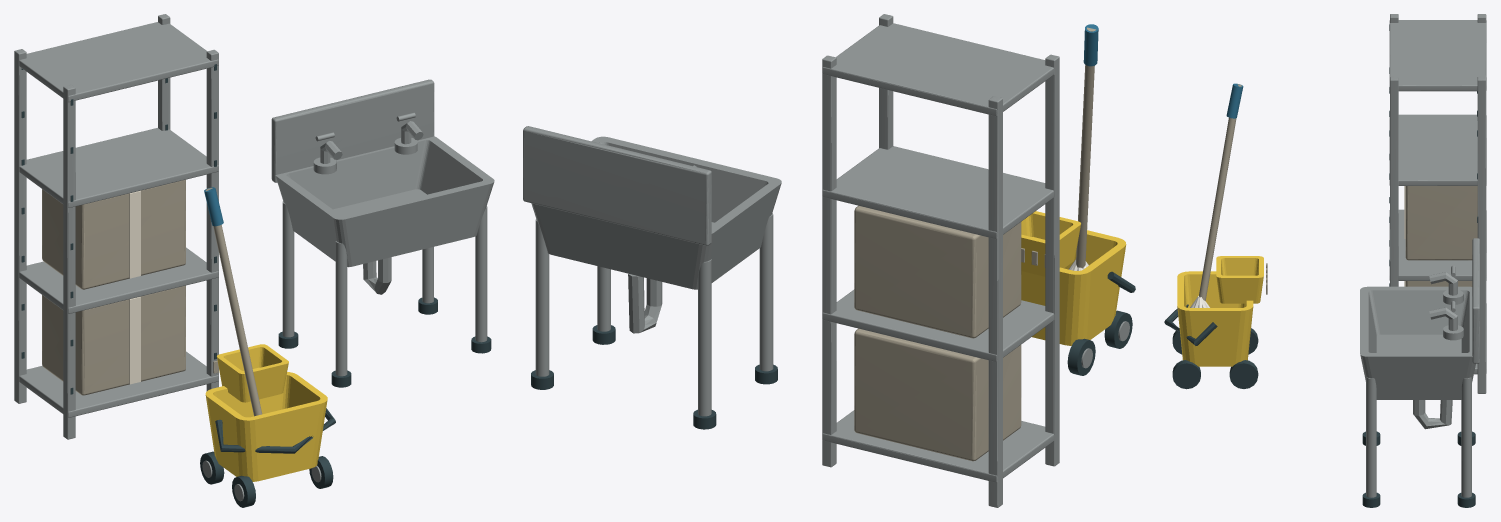
The model's file is 10_janitor_starter_assembly.glb.
3 views of the same model, side by side, from view 1: azimuth 30°, elevation 25°; view 2: azimuth 150°, elevation 25°; view 3: azimuth 270°, elevation 25° (orthographic). The views are drawn at different scales.
Parts seen in each view (by area): view 1: 10_starter_rack__Static, 10_starter_steel_sink__Static, 10_starter_mop_bucket__Static; view 2: 10_starter_rack__Static, 10_starter_steel_sink__Static, 10_starter_mop_bucket__Static; view 3: 10_starter_rack__Static, 10_starter_steel_sink__Static, 10_starter_mop_bucket__Static.
Boxes of the visible parts, x1,y1,x2,y2 form: 10_starter_rack__Static: (14,14,218,439); 10_starter_steel_sink__Static: (271,79,494,387); 10_starter_mop_bucket__Static: (200,187,335,507); 10_starter_rack__Static: (822,14,1059,507); 10_starter_steel_sink__Static: (523,126,781,429); 10_starter_mop_bucket__Static: (1021,24,1135,375); 10_starter_rack__Static: (1389,14,1486,393); 10_starter_steel_sink__Static: (1360,238,1479,507); 10_starter_mop_bucket__Static: (1164,83,1267,389).
Size of the model in its own units: 2.25 by 1.82 by 1.69.
